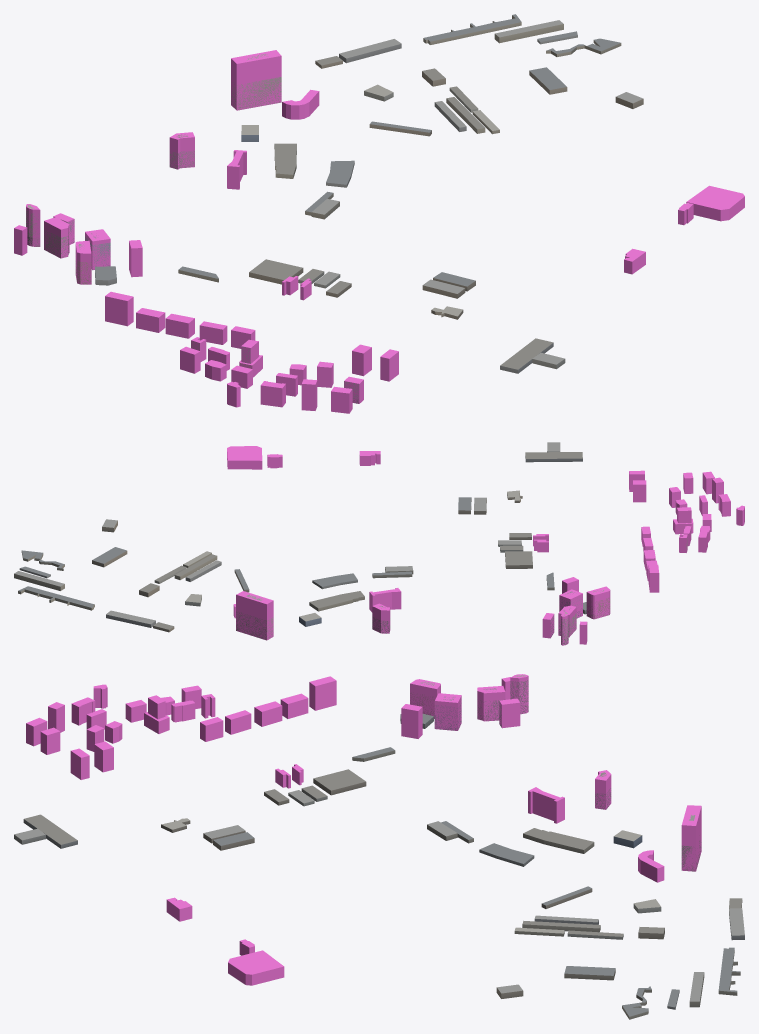
Rendered from bld_10_0.fbx.
The picture shows the model from 3 angles, top to bottom: view 1: azimuth 30°, elevation 25°; view 2: azimuth 150°, elevation 25°; view 3: azimuth 270°, elevation 25°; orthographic projection. The views are drawn at different scales.
Parts seen in each view (by area): view 1: bld_10_0_COL, bld_10_0_LOD0; view 2: bld_10_0_COL, bld_10_0_LOD0; view 3: bld_10_0_COL, bld_10_0_LOD0.
Part boxes in pixels (x1,y1,x2,y2): bld_10_0_COL: [14, 50, 744, 413]; bld_10_0_LOD0: [26, 14, 643, 403]; bld_10_0_COL: [227, 446, 744, 645]; bld_10_0_LOD0: [14, 442, 687, 645]; bld_10_0_COL: [26, 674, 701, 985]; bld_10_0_LOD0: [14, 674, 744, 1019].
Size of what is drawn, in the model's own units: 1977 by 132 by 1915.
